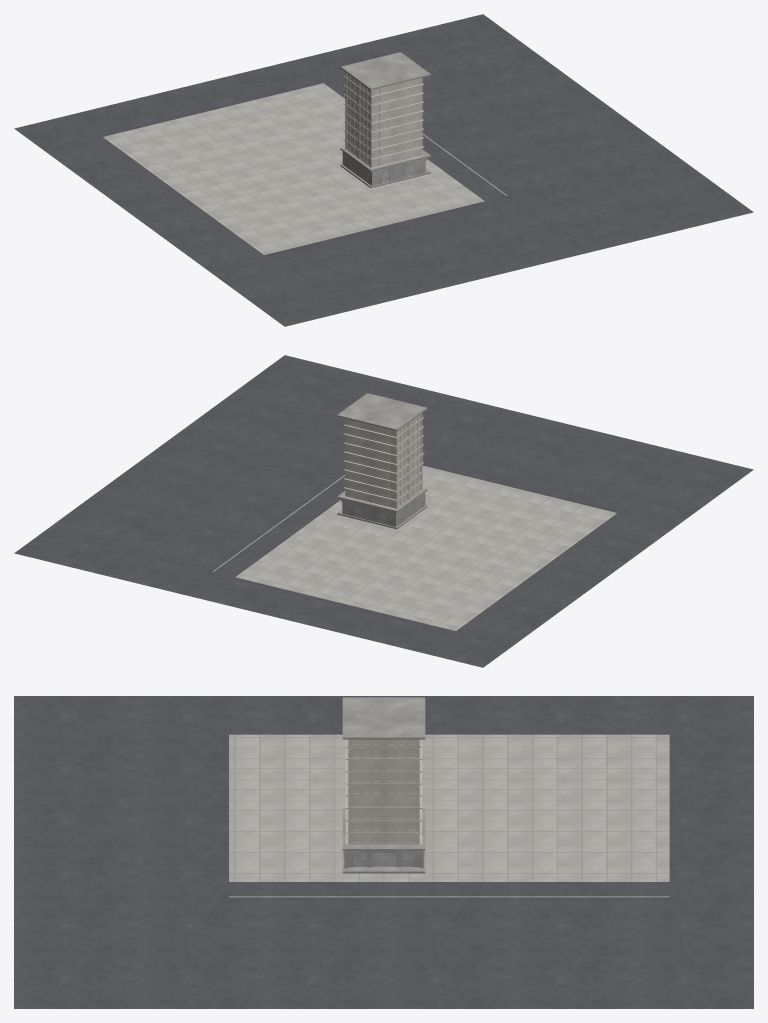
The model's file is edificio.glb.
3 views of the same model, one above another, from view 1: azimuth 30°, elevation 25°; view 2: azimuth 150°, elevation 25°; view 3: azimuth 270°, elevation 25° (orthographic). The views are drawn at different scales.
Visible parts, largest first — view 1: Plane_3b19f7, Plane_d4a672, Cube_ccd404, Cube_b4535c, Cube.001, Cube.003; view 2: Plane_3b19f7, Plane_d4a672, Cube_ccd404, Cube_b4535c, Cube.001, Cube.003; view 3: Plane_3b19f7, Plane_d4a672, Cube_ccd404, Cube.001, Cube_b4535c, Cube.003, Plane_9f1416, Cube.002.
Boxes of the visible parts, box(x1,y1,x2,y2) form: Plane_3b19f7: box(14, 14, 753, 326); Plane_d4a672: box(103, 83, 484, 254); Cube_ccd404: box(343, 72, 424, 168); Cube_b4535c: box(347, 73, 418, 165); Cube.001: box(340, 52, 430, 90); Cube.003: box(340, 151, 430, 188); Plane_3b19f7: box(14, 355, 753, 667); Plane_d4a672: box(235, 465, 616, 630); Cube_ccd404: box(343, 413, 424, 509); Cube_b4535c: box(349, 414, 420, 506); Cube.001: box(337, 393, 427, 431); Cube.003: box(337, 492, 427, 529); Plane_3b19f7: box(14, 696, 753, 1008); Plane_d4a672: box(229, 734, 669, 881); Cube_ccd404: box(345, 739, 422, 844); Cube.001: box(342, 697, 425, 739); Cube_b4535c: box(352, 739, 415, 842); Cube.003: box(342, 851, 425, 873); Plane_9f1416: box(229, 896, 669, 897); Cube.002: box(342, 808, 425, 850).
Size of the model in its own units: 17.92 by 3.64 by 17.92.
5 materials, 5 textured.
